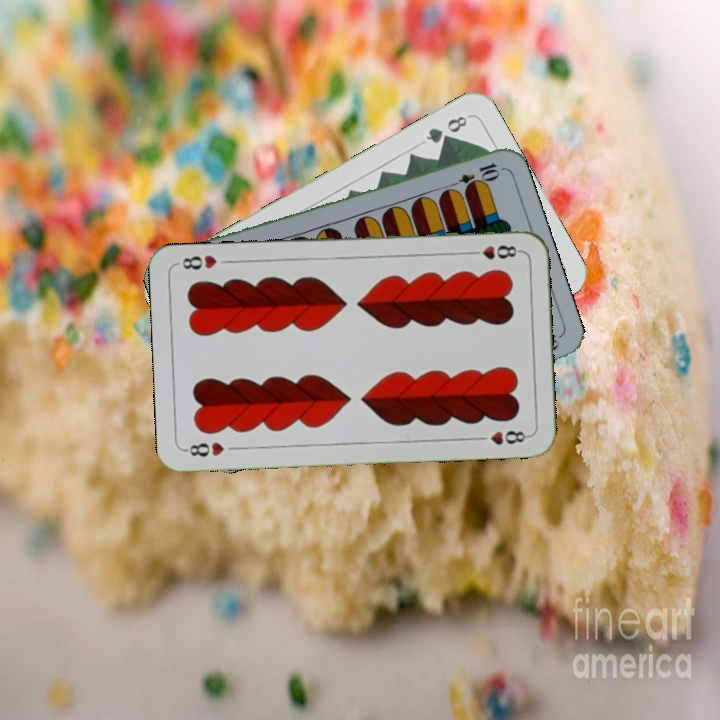E10: (444, 159, 502, 192)
G8: (422, 112, 472, 146)
H8: (463, 241, 522, 262), (181, 438, 227, 459)
